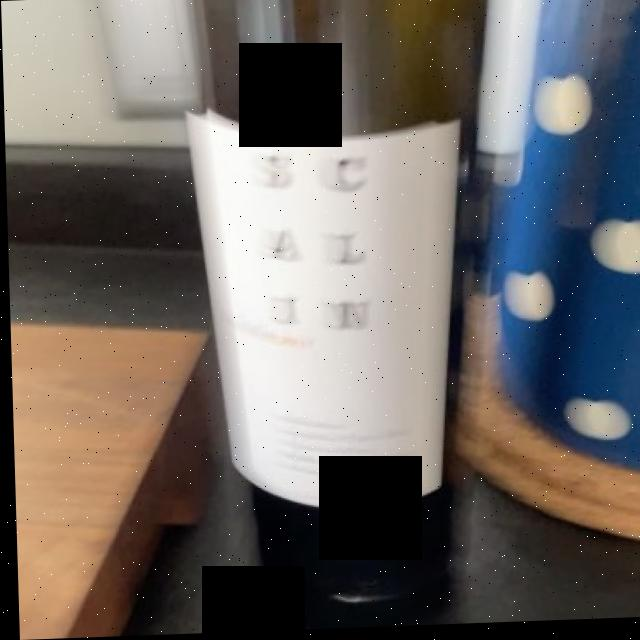wine-red: (539, 79, 590, 133)
